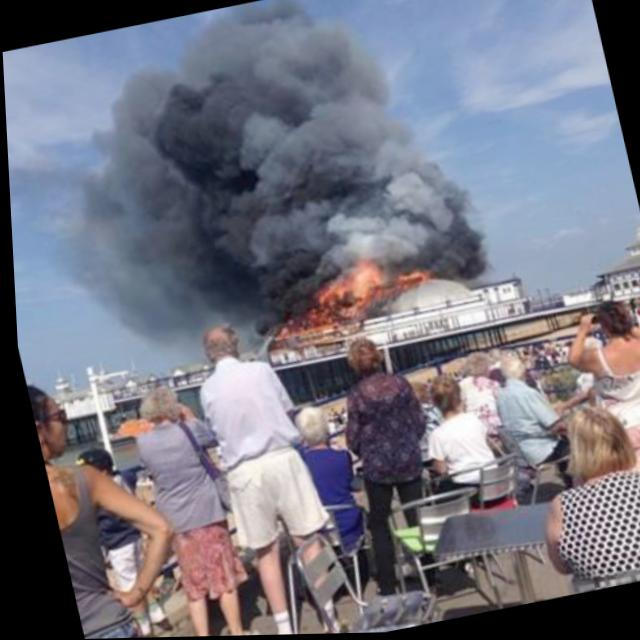fire: (342, 263, 384, 301), (316, 275, 351, 298), (302, 306, 334, 331), (395, 267, 432, 285), (272, 320, 303, 338)
